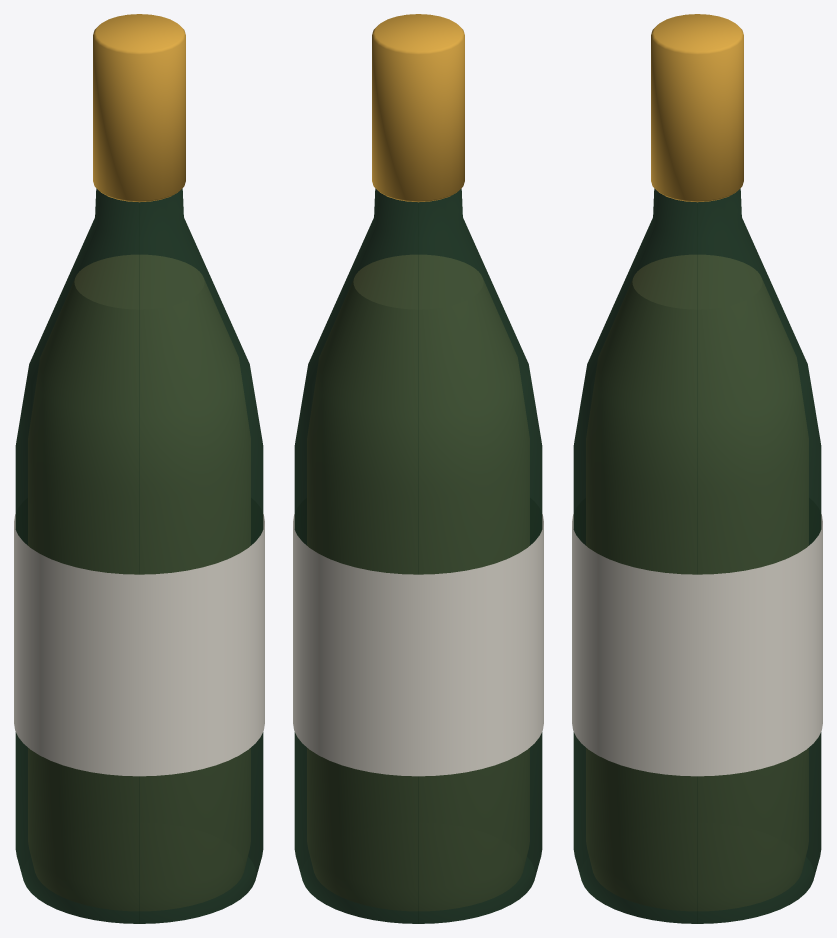
File: espumante.glb
3 renders of one model, left to right at view 1: azimuth 30°, elevation 25°; view 2: azimuth 150°, elevation 25°; view 3: azimuth 270°, elevation 25°, orthographic.
Visible parts, largest first — view 1: espumante; view 2: espumante; view 3: espumante.
Boxes of the visible parts, left/top/right/bottom form: espumante: left=14, top=14, right=264, bottom=923; espumante: left=293, top=14, right=543, bottom=923; espumante: left=572, top=14, right=822, bottom=923.
Size of the model in its own units: 0.0902 by 0.334 by 0.0902.
